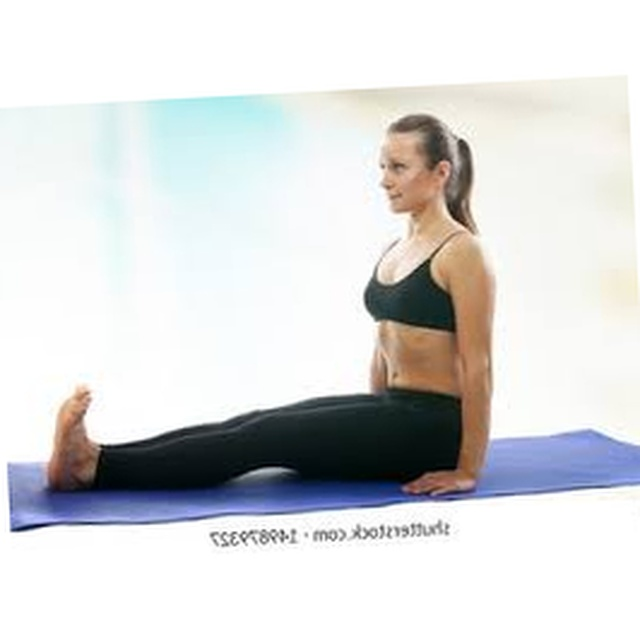Staff_Pose: (47, 112, 499, 498)
